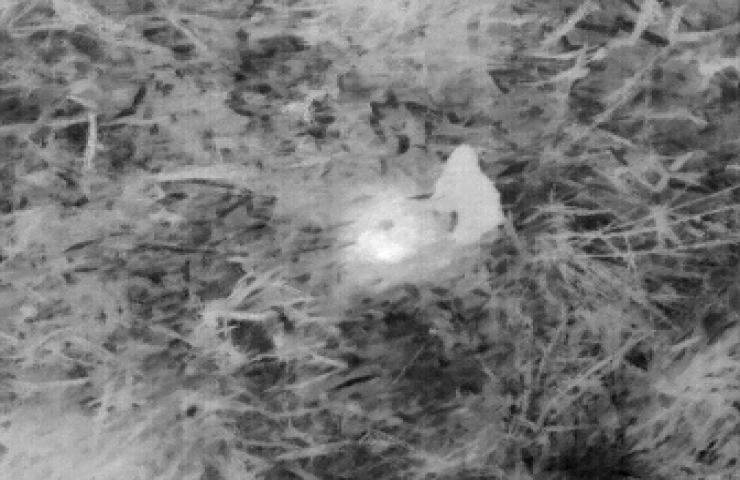landmines: (336, 187, 433, 270)
